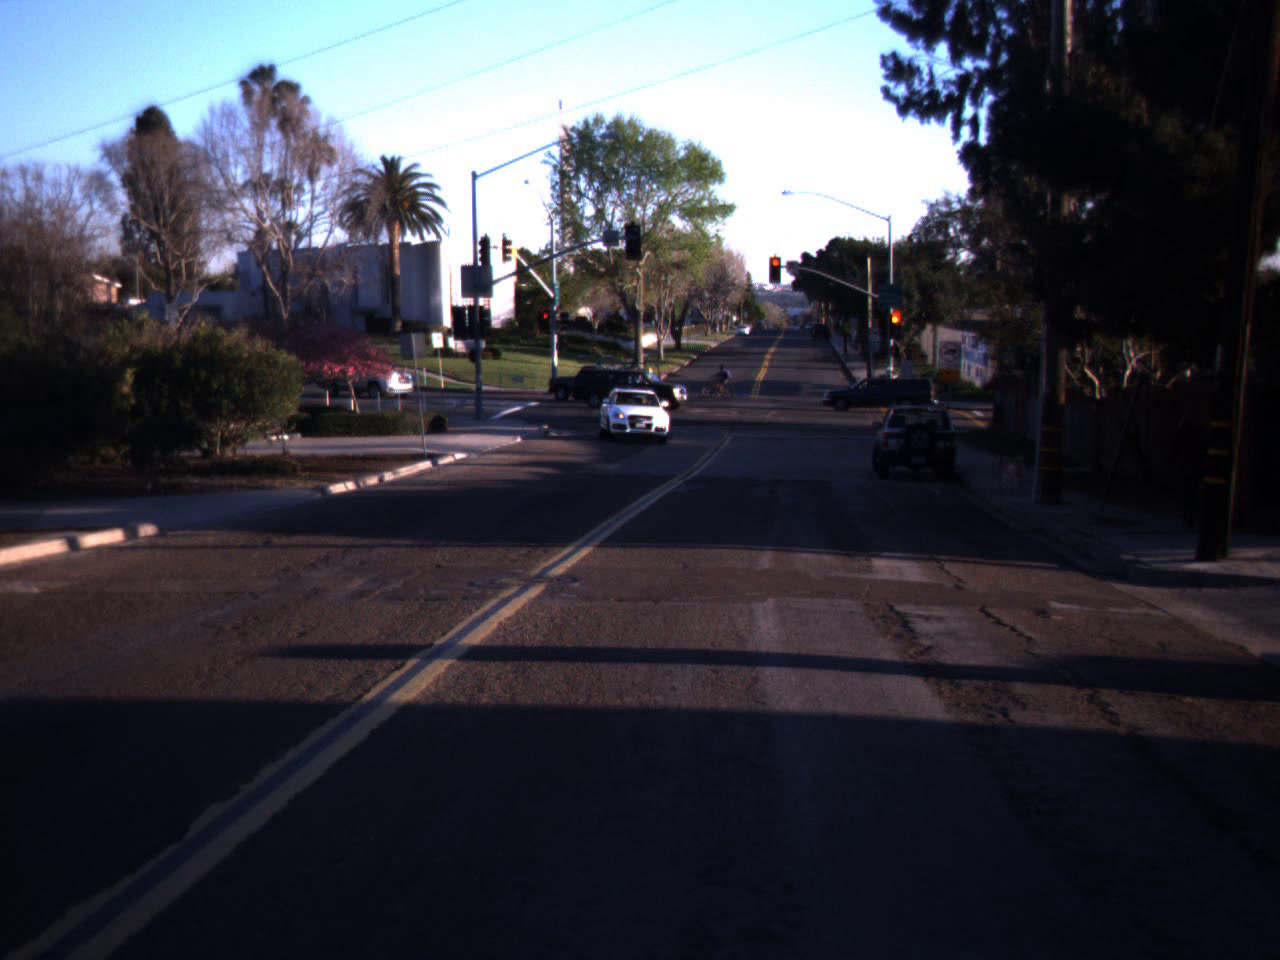stop: (884, 306, 908, 355), (768, 257, 783, 279), (540, 312, 552, 330)
